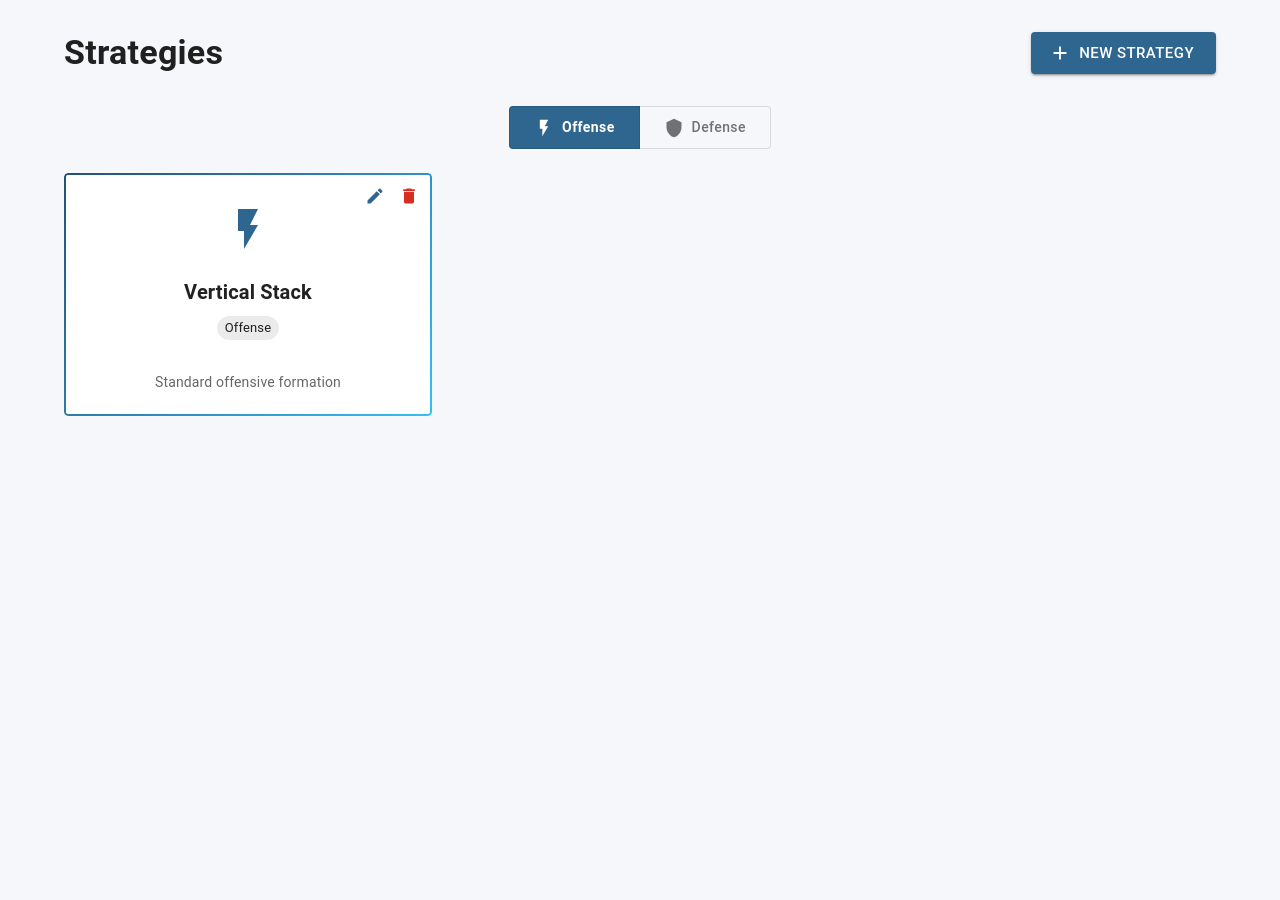
Scenario: StrategiesPage › allows deleting a strategy with confirmation
The width and height of the screenshot is (1280, 900).
Check: the heading "Vertical Stack" is shown, box [184, 280, 312, 304]
# Find all delete icon buttons (they don't have aria-labels)
Click the button with test id "DeleteIcon" at (409, 196), box [394, 181, 424, 211]
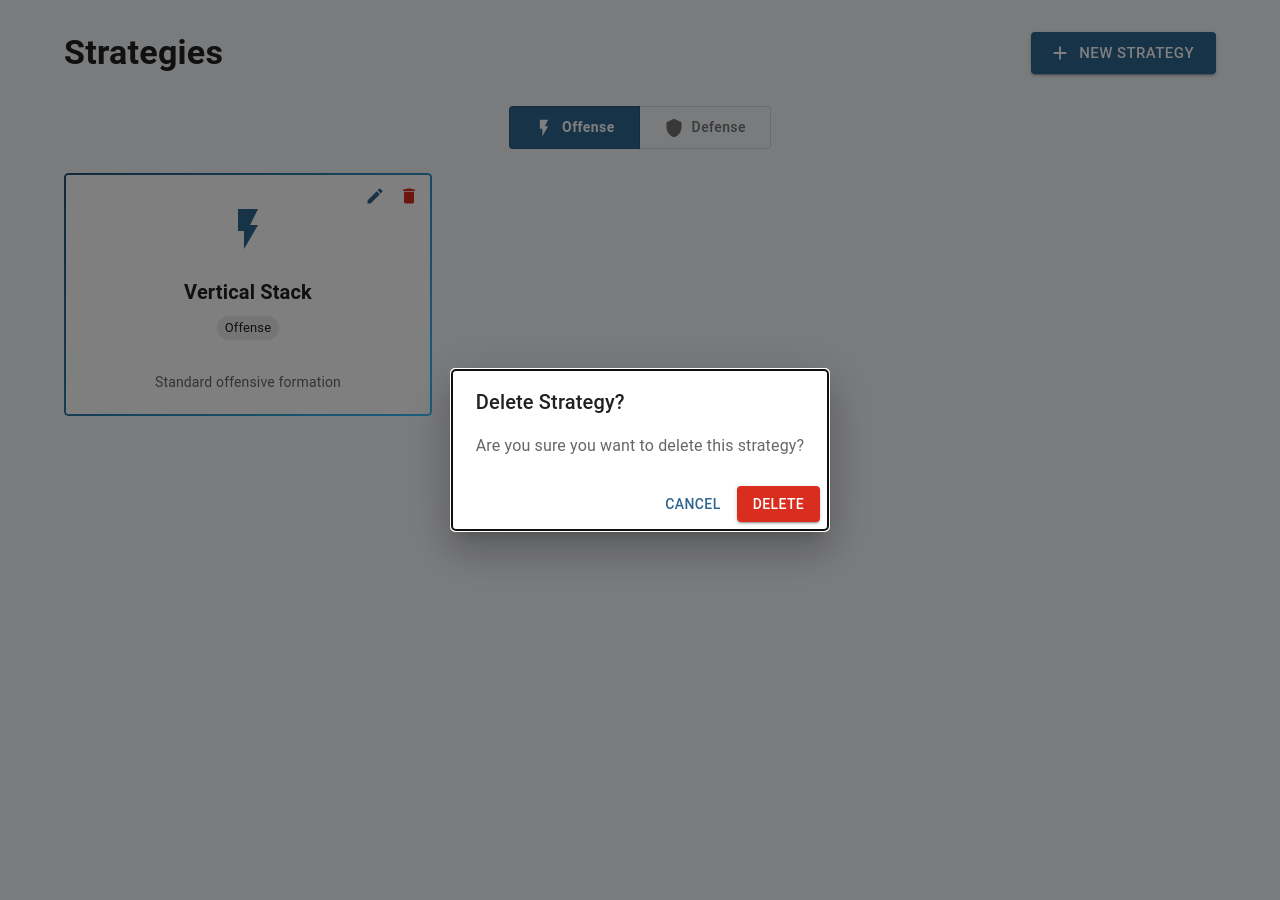
Check: the text "Are you sure you want to delete this strategy?" is shown, box [476, 434, 804, 458]
# Confirm deletion - find the "Delete" button in the dialog (not the icon buttons)
Click the button "Delete" at (778, 504), box [737, 486, 820, 522]
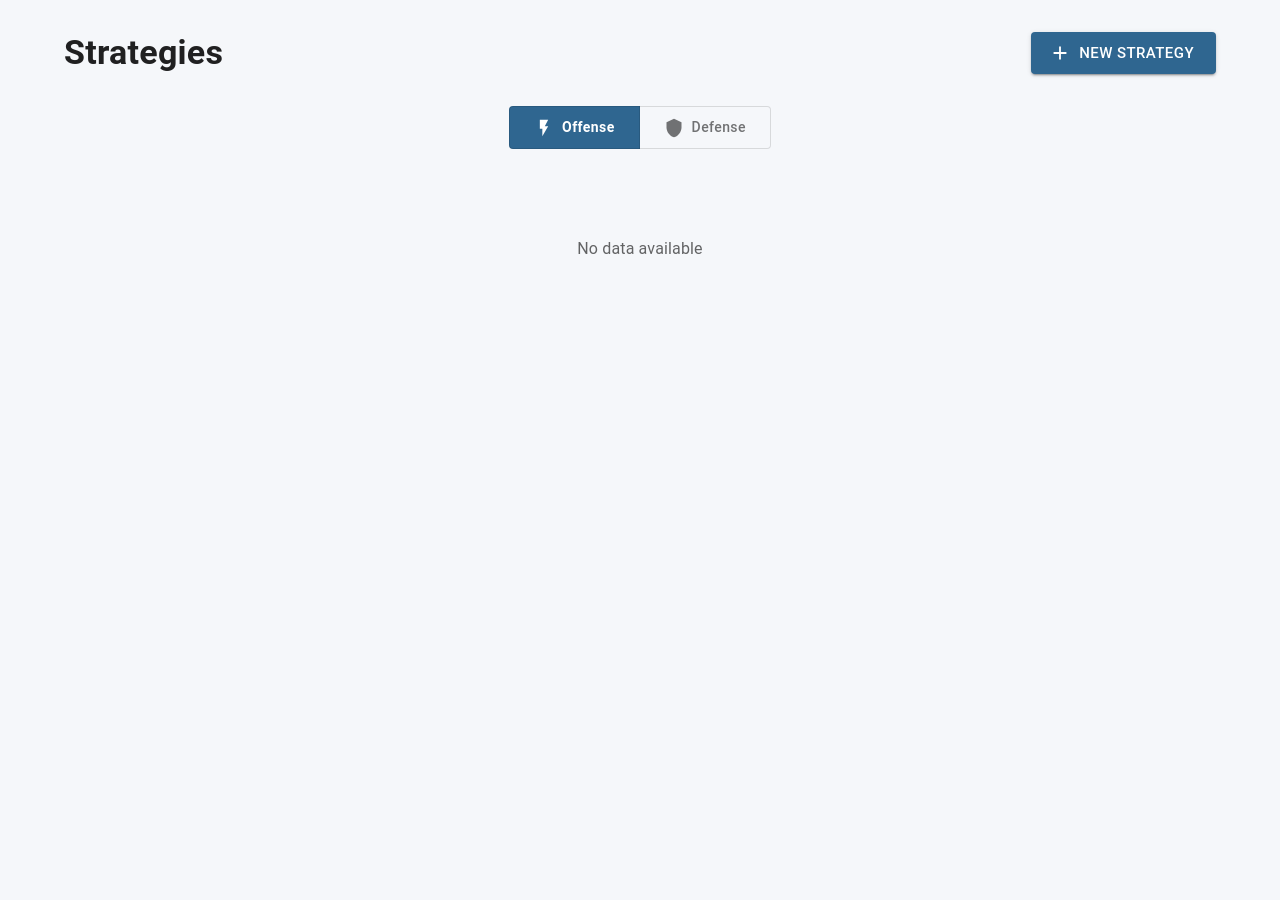
Check: the heading "Vertical Stack" is gone
